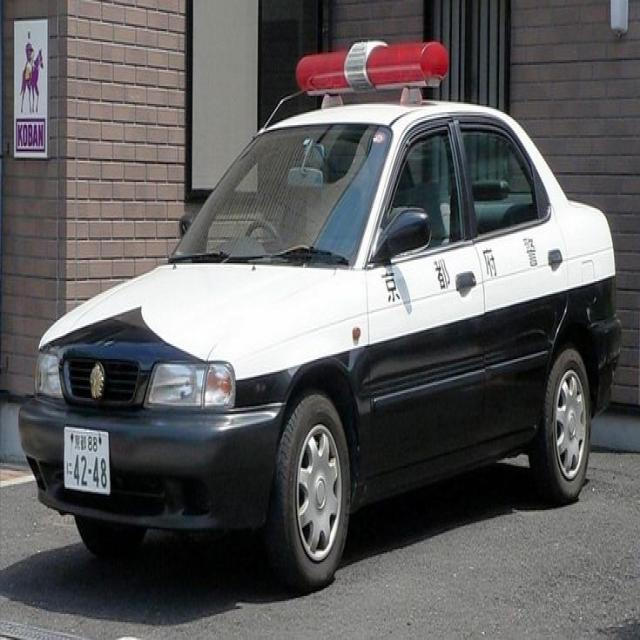Police: (18, 31, 628, 614)
